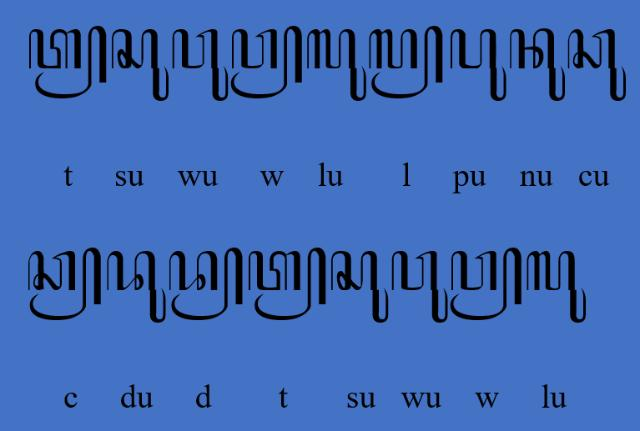-c: (26, 247, 104, 322)
-d: (169, 246, 245, 322)
-l: (368, 24, 444, 100)
-t: (247, 247, 329, 322), (28, 26, 108, 100)
-w: (448, 247, 524, 322), (230, 24, 304, 100)
cu: (566, 28, 626, 104)
du: (107, 248, 169, 324)
lu: (306, 27, 368, 103), (526, 250, 586, 324)
nu: (509, 29, 566, 102)
pu: (449, 27, 508, 101)
su: (330, 250, 390, 326), (110, 27, 168, 103)
wu: (172, 28, 230, 102), (391, 250, 449, 324)
